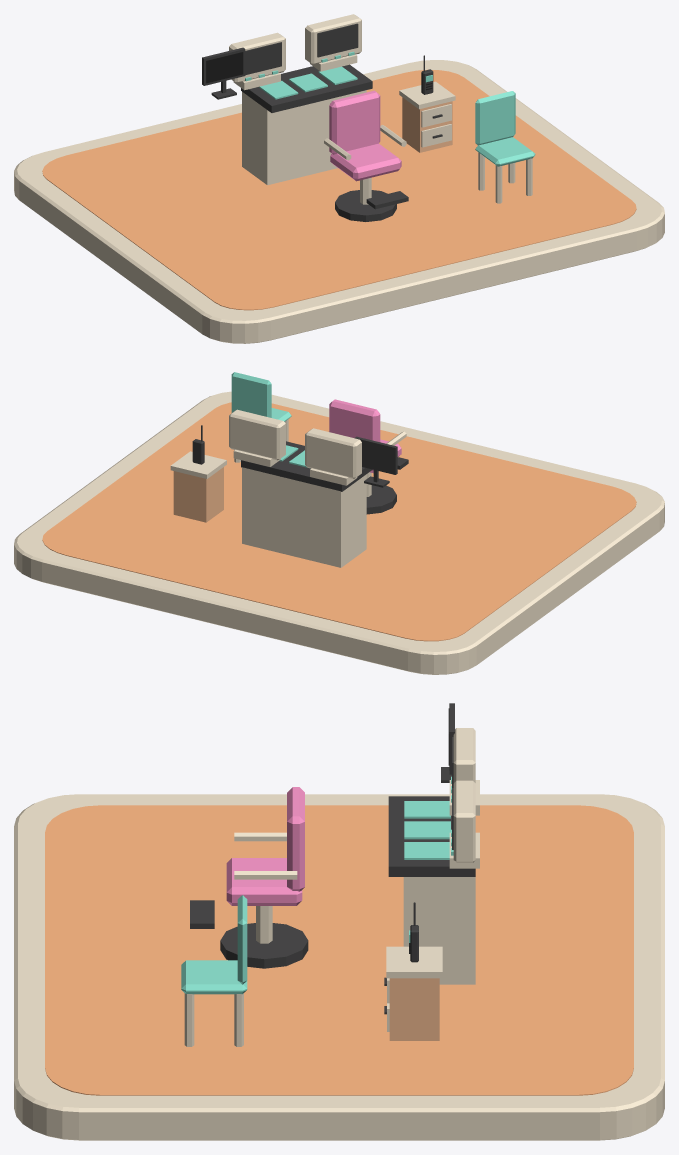
The model's file is room.fbx.
3 renders of one model, top to bottom at view 1: azimuth 30°, elevation 25°; view 2: azimuth 150°, elevation 25°; view 3: azimuth 270°, elevation 25°, orthographic. The views are drawn at different scales.
Parts seen in each view (by area): view 1: COM-02 Floor Surface, COM-01 Rounded Base Direct, Console, Back, Panel, Backrest, Seat, Frame, Housing.001, Body, Base, Seat.001 (+6 smaller); view 2: COM-02 Floor Surface, COM-01 Rounded Base Direct, Console, Housing, Housing.001, Body, Back, Backrest, Panel, Frame, Top, Base; view 3: COM-02 Floor Surface, COM-01 Rounded Base Direct, Console, Body, Panel, Base, Seat, Seat.001, Housing.001, Back, Top, Housing (+5 smaller).
Part boxes in pixels (left/top/right/bottom): COM-02 Floor Surface: left=42, top=69, right=636, bottom=310; COM-01 Rounded Base Direct: left=14, top=60, right=664, bottom=343; Console: left=242, top=90, right=366, bottom=185; Back: left=329, top=90, right=380, bottom=154; Panel: left=241, top=64, right=372, bottom=112; Backrest: left=475, top=91, right=515, bottom=145; Seat: left=330, top=143, right=401, bottom=181; Frame: left=202, top=47, right=245, bottom=99; Housing.001: left=305, top=14, right=361, bottom=64; Body: left=402, top=97, right=452, bottom=152; Base: left=335, top=190, right=396, bottom=221; Seat.001: left=475, top=137, right=535, bottom=166; COM-02 Floor Surface: left=42, top=402, right=636, bottom=641; COM-01 Rounded Base Direct: left=14, top=391, right=664, bottom=674; Console: left=242, top=467, right=366, bottom=567; Housing: left=305, top=428, right=361, bottom=478; Housing.001: left=229, top=409, right=285, bottom=460; Body: left=173, top=467, right=223, bottom=522; Back: left=329, top=399, right=380, bottom=441; Backrest: left=231, top=372, right=271, bottom=417; Panel: left=241, top=441, right=372, bottom=491; Frame: left=355, top=436, right=397, bottom=487; Top: left=170, top=451, right=226, bottom=478; Base: left=366, top=485, right=396, bottom=514; COM-02 Floor Surface: left=45, top=805, right=633, bottom=1095; COM-01 Rounded Base Direct: left=14, top=794, right=664, bottom=1140; Console: left=403, top=877, right=475, bottom=984; Body: left=389, top=978, right=439, bottom=1040; Panel: left=388, top=796, right=475, bottom=876; Base: left=220, top=923, right=308, bottom=968; Seat: left=226, top=858, right=302, bottom=905; Seat.001: left=181, top=960, right=247, bottom=994; Housing.001: left=453, top=780, right=475, bottom=862; Back: left=287, top=787, right=304, bottom=891; Top: left=386, top=946, right=442, bottom=978; Housing: left=453, top=728, right=475, bottom=783.
Bounding box in the file's own units: 600 × 188 × 520.
